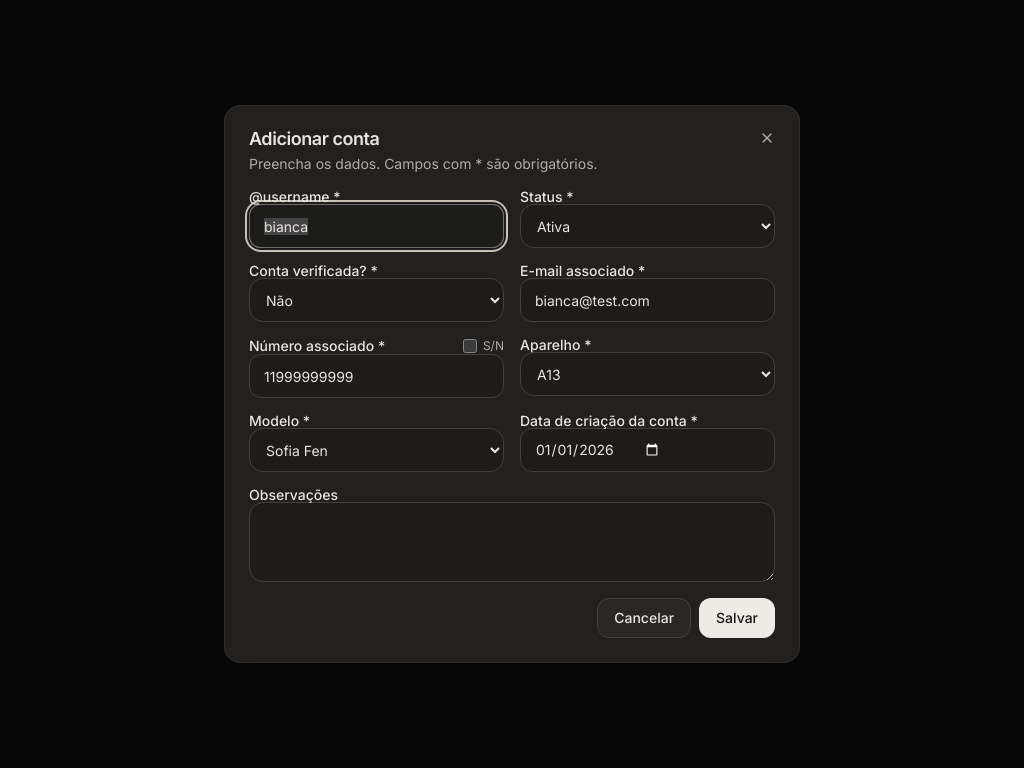
Scenario: Instagram editor workflows › does not silently discard a form after a server failure
Click the button "Salvar".
click(737, 618)  # box [699,598,775,638]
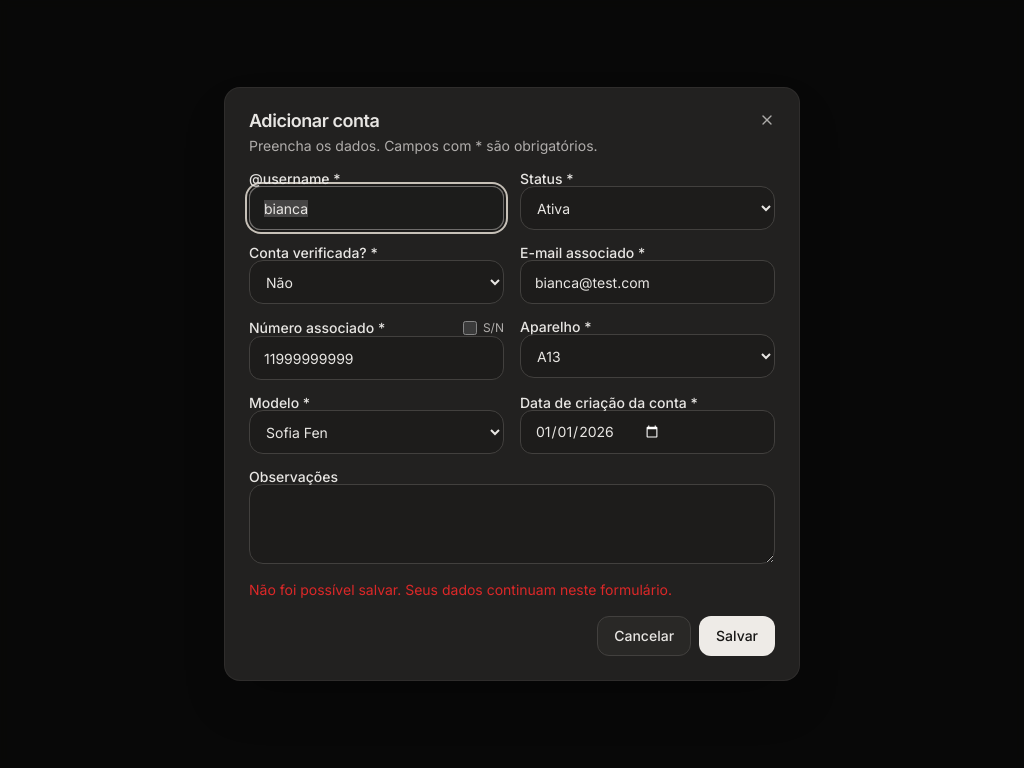
Expected: the field labelled "@username *" holds "bianca", [249,186,504,230]
Expected: the message shows "Seus dados continuam", [249,581,672,598]
